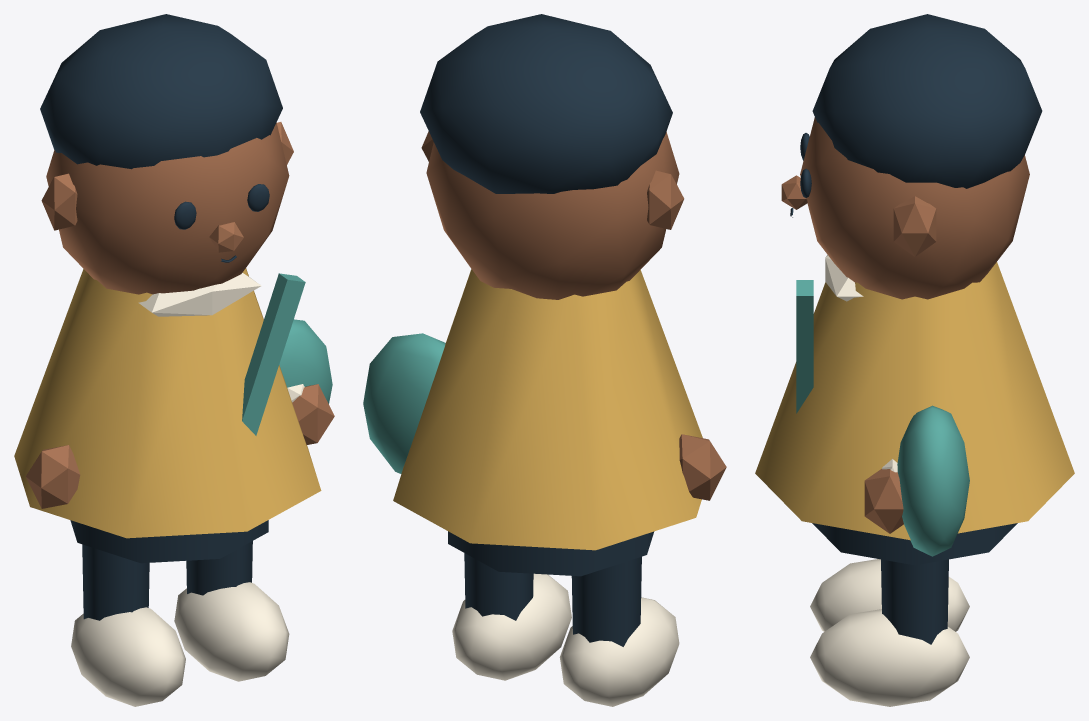
Rendered from keeper.glb.
The picture shows the model from 3 angles, left to right: view 1: azimuth 30°, elevation 25°; view 2: azimuth 150°, elevation 25°; view 3: azimuth 270°, elevation 25°; orthographic projection. The views are drawn at different scales.
Visible parts, largest first — view 1: rain_cape, hair, head, boot_left, boot_right, shorts, strap, leg_left, satchel, collar, hand_left, leg_right (+5 smaller); view 2: rain_cape, hair, head, boot_left, boot_right, satchel, leg_left, shorts, leg_right, hand_left, ear_left; view 3: rain_cape, hair, head, boot_right, satchel, leg_right, boot_left, shorts, strap, ear_right, hand_right, collar (+1 smaller).
Boxes of the visible parts, x1=… form: rain_cape: x1=14, y1=268, x2=321, y2=538; hair: x1=40, y1=14, x2=282, y2=169; head: x1=46, y1=122, x2=289, y2=294; boot_left: x1=71, y1=607, x2=185, y2=706; boot_right: x1=174, y1=582, x2=289, y2=681; shorts: x1=70, y1=520, x2=268, y2=563; strap: x1=242, y1=273, x2=305, y2=435; leg_left: x1=82, y1=544, x2=149, y2=620; satchel: x1=279, y1=319, x2=332, y2=403; collar: x1=138, y1=272, x2=261, y2=316; hand_left: x1=25, y1=445, x2=80, y2=508; leg_right: x1=186, y1=541, x2=252, y2=595; rain_cape: x1=393, y1=269, x2=702, y2=550; hair: x1=420, y1=14, x2=672, y2=193; head: x1=426, y1=132, x2=679, y2=299; boot_left: x1=559, y1=597, x2=679, y2=706; boot_right: x1=452, y1=573, x2=571, y2=680; satchel: x1=363, y1=333, x2=445, y2=473; leg_left: x1=571, y1=556, x2=641, y2=646; shorts: x1=448, y1=531, x2=654, y2=576; leg_right: x1=464, y1=553, x2=533, y2=620; hand_left: x1=679, y1=434, x2=726, y2=500; ear_left: x1=647, y1=170, x2=684, y2=229; rain_cape: x1=755, y1=262, x2=1074, y2=540; hair: x1=812, y1=14, x2=1042, y2=188; head: x1=800, y1=117, x2=1029, y2=299; boot_right: x1=810, y1=609, x2=969, y2=706; satchel: x1=897, y1=405, x2=969, y2=556; leg_right: x1=881, y1=559, x2=948, y2=644; boot_left: x1=810, y1=559, x2=969, y2=631; shorts: x1=812, y1=523, x2=1017, y2=565; strap: x1=796, y1=280, x2=813, y2=413; ear_right: x1=893, y1=196, x2=936, y2=256; hand_right: x1=864, y1=469, x2=903, y2=533; collar: x1=825, y1=255, x2=863, y2=301.
Size of the model in its own units: 0.741 by 1.43 by 0.64.
